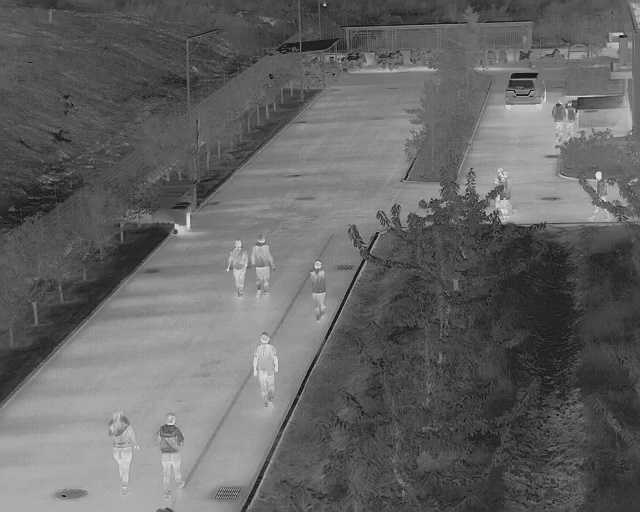person: (152, 411, 189, 499), (106, 407, 140, 492), (253, 331, 281, 409), (250, 233, 277, 297), (224, 238, 248, 298), (308, 259, 328, 322), (552, 99, 567, 146)
vehicle: (502, 70, 547, 110)
